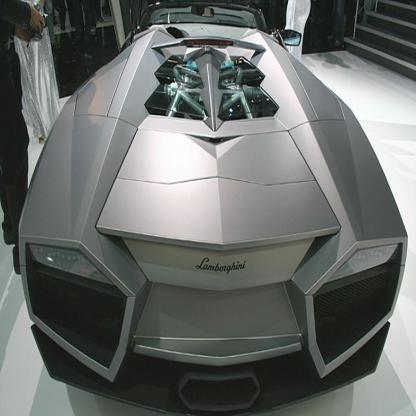Vehicle: (18, 16, 409, 413)
